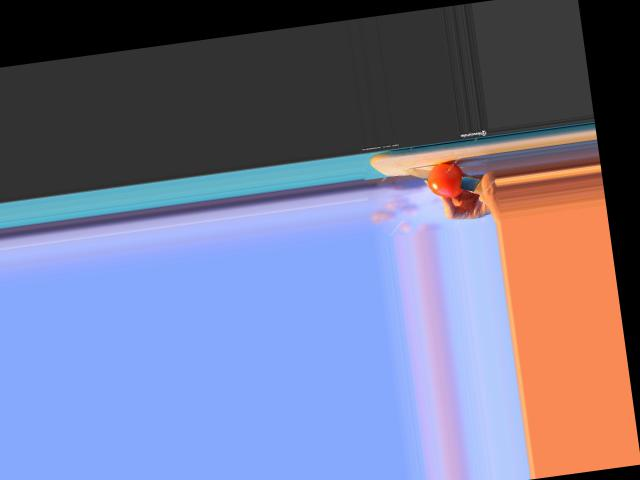tomato: (424, 159, 466, 199)
